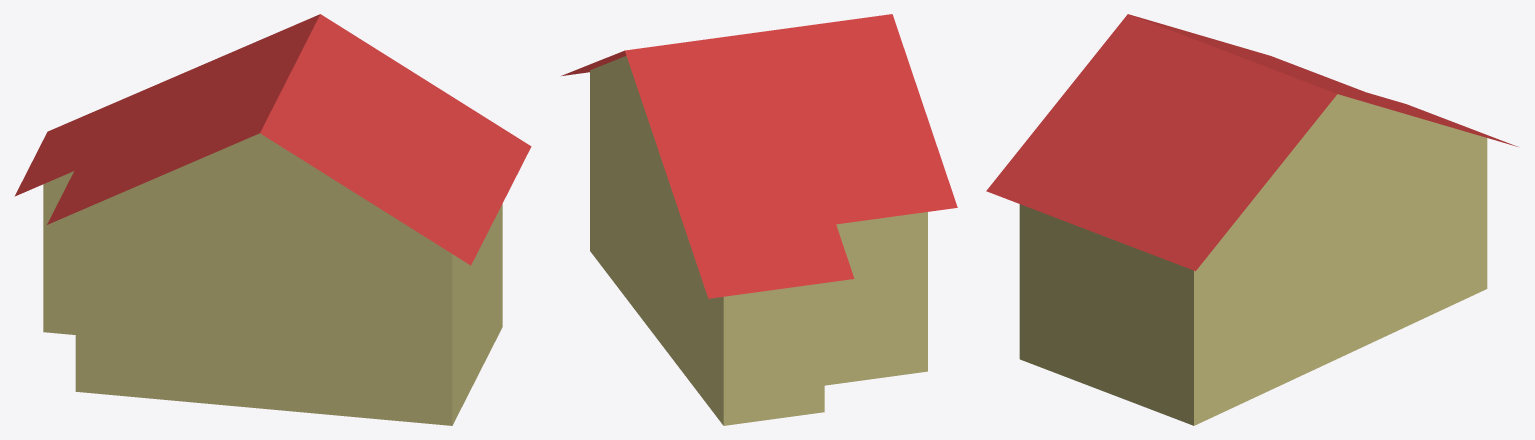
3 renders of one model, left to right at view 1: azimuth 30°, elevation 25°; view 2: azimuth 150°, elevation 25°; view 3: azimuth 270°, elevation 25°, orthographic. The views are drawn at different scales.
Bounding box in the file's own units: 15.96 × 16.91 × 9.76.
